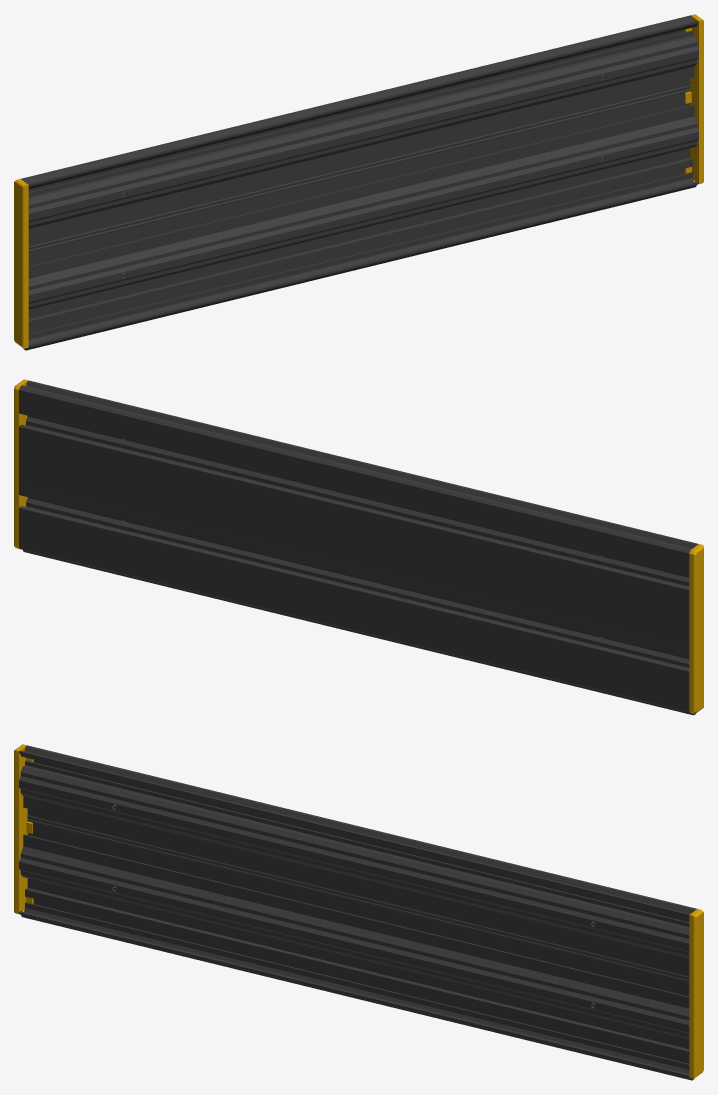
The model's file is Maxxclick-rail.glb.
The picture shows the model from 3 angles, top to bottom: view 1: azimuth 30°, elevation 25°; view 2: azimuth 150°, elevation 25°; view 3: azimuth 330°, elevation 25°; orthographic projection.
Visible parts, largest first — view 1: NAUO1, NAUO3, NAUO2; view 2: NAUO1, NAUO3, NAUO2; view 3: NAUO1, NAUO2, NAUO3.
Part boxes in pixels (x1=…): NAUO1: x1=21, y1=15, x2=698, y2=350; NAUO3: x1=14, y1=179, x2=28, y2=348; NAUO2: x1=684, y1=14, x2=703, y2=183; NAUO1: x1=19, y1=380, x2=698, y2=715; NAUO3: x1=689, y1=544, x2=703, y2=713; NAUO2: x1=14, y1=379, x2=28, y2=548; NAUO1: x1=19, y1=745, x2=696, y2=1080; NAUO2: x1=689, y1=909, x2=703, y2=1078; NAUO3: x1=14, y1=744, x2=33, y2=913.
Size of the model in its own units: 0.57 by 0.134 by 0.014.
